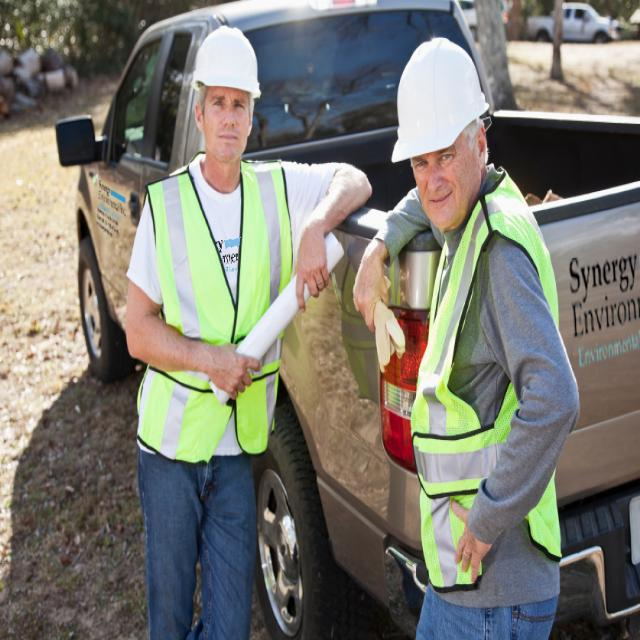Reflective-Jacket: (404, 178, 566, 586), (135, 160, 297, 462)
Safety-Helmet: (387, 34, 493, 166), (188, 22, 263, 100)
